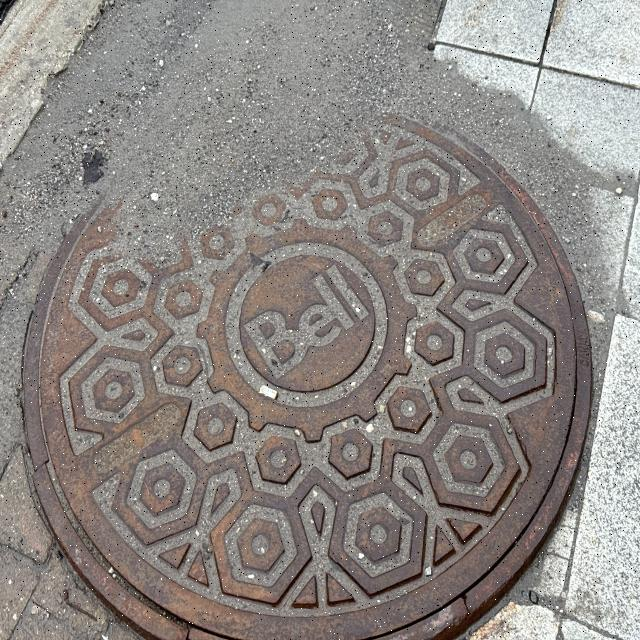Manhole: (26, 117, 592, 630)
